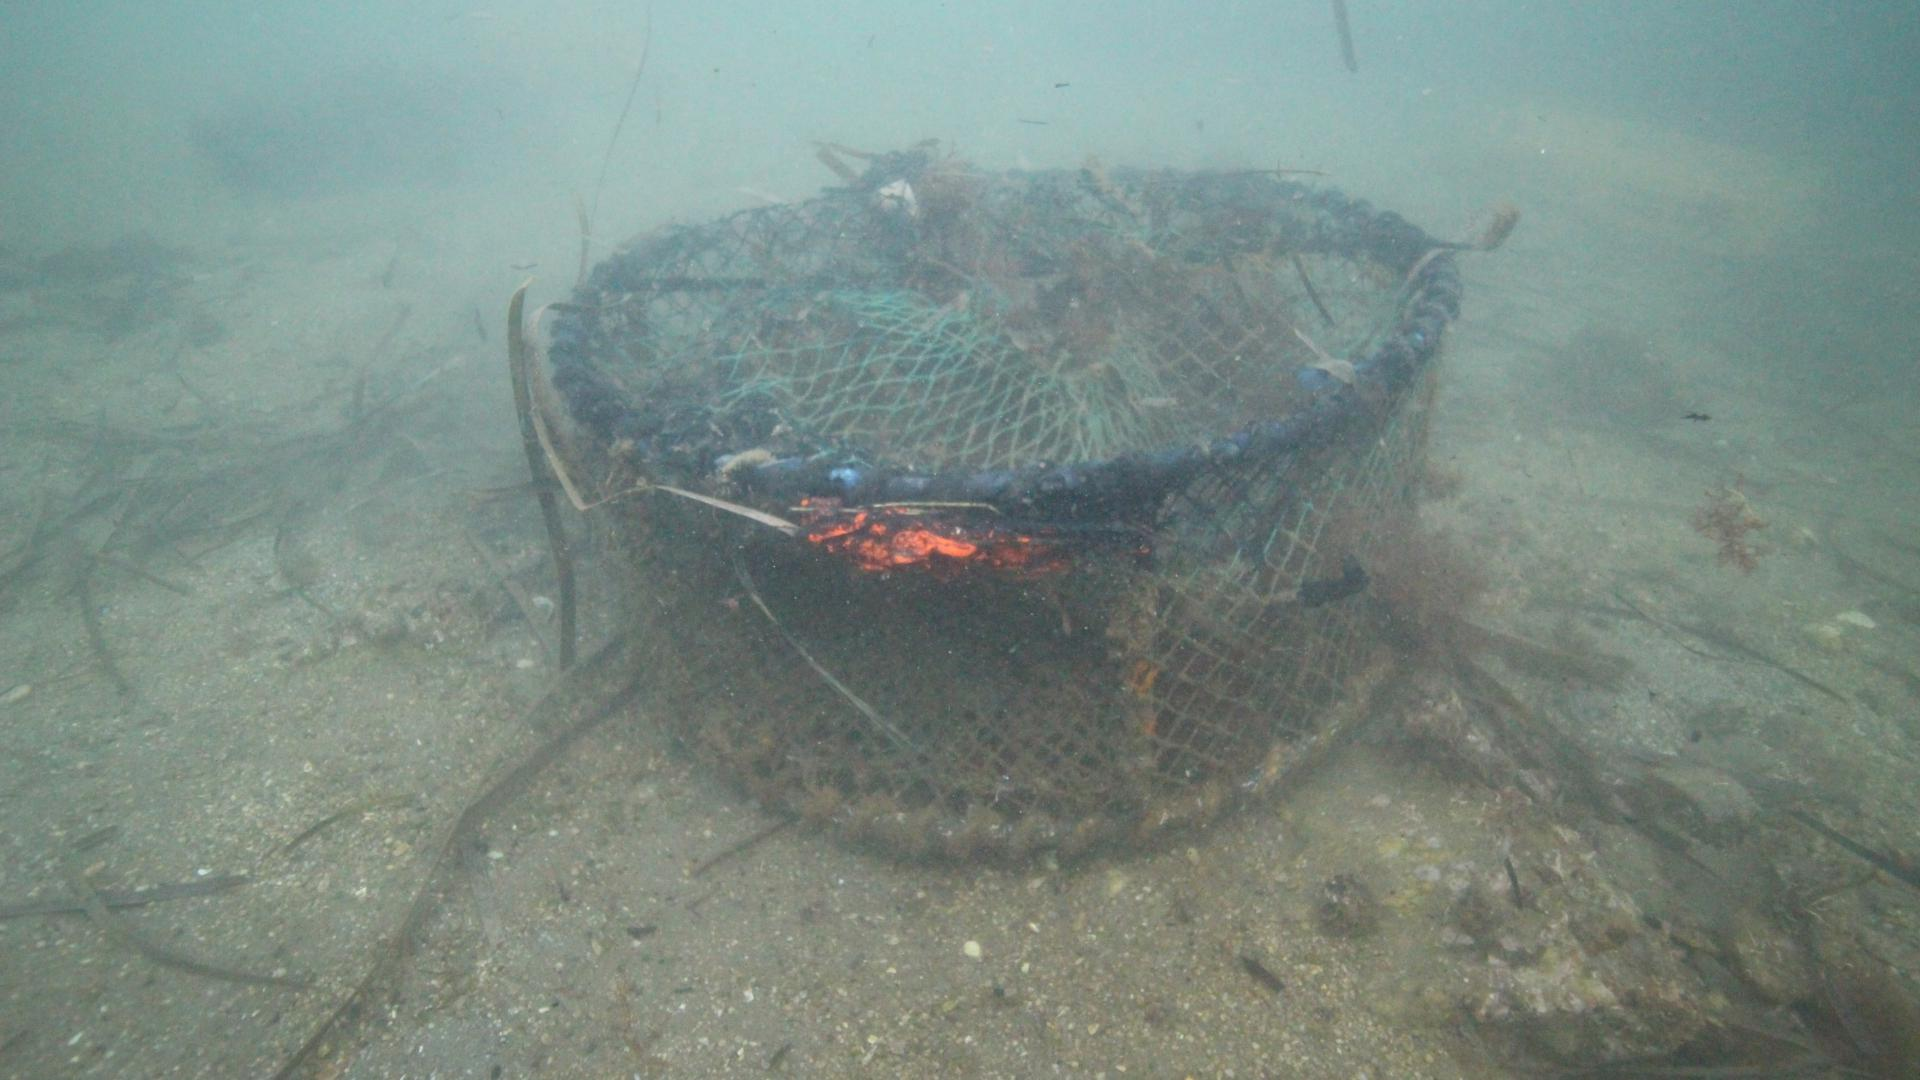circular fish trap: (549, 160, 1464, 862)
